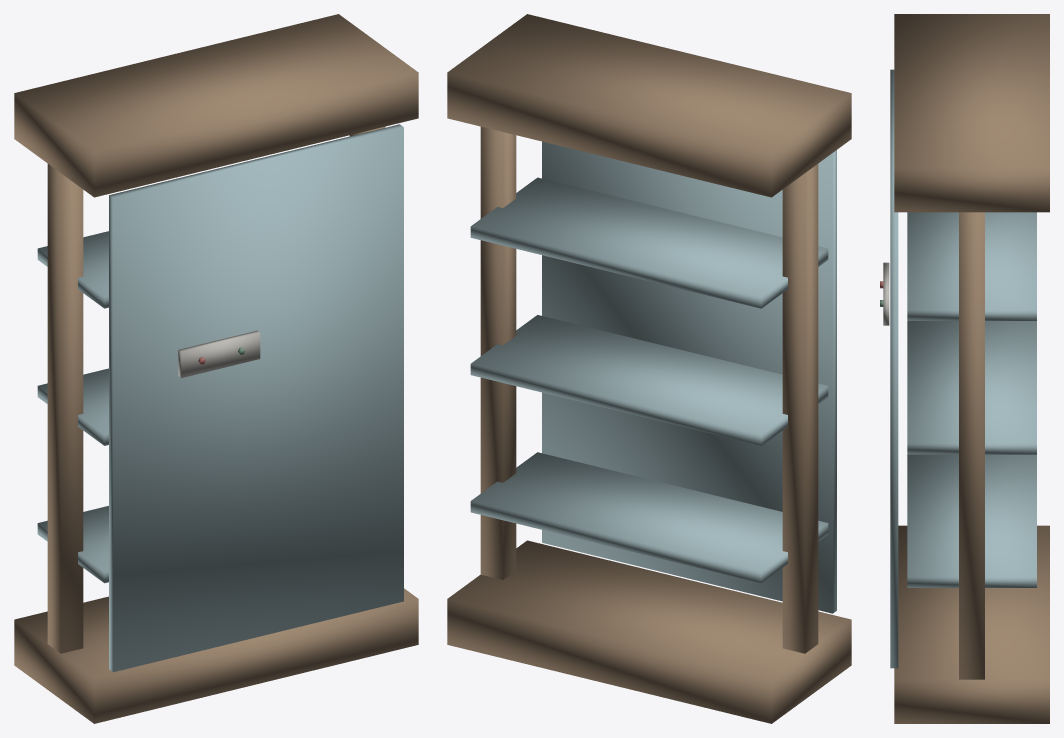
Rendered from glass_display_cabinet__compact.glb.
The picture shows the model from 3 angles, left to right: view 1: azimuth 30°, elevation 25°; view 2: azimuth 150°, elevation 25°; view 3: azimuth 270°, elevation 25°; orthographic projection. The views are drawn at different scales.
Visible parts, largest first — view 1: world; view 2: world; view 3: world.
Part boxes in pixels (<box>): world: <box>14,14,418,723</box>; world: <box>447,14,851,723</box>; world: <box>880,14,1049,723</box>.
Bounding box in the file's own units: 0.966 × 1.63 × 0.4502.
